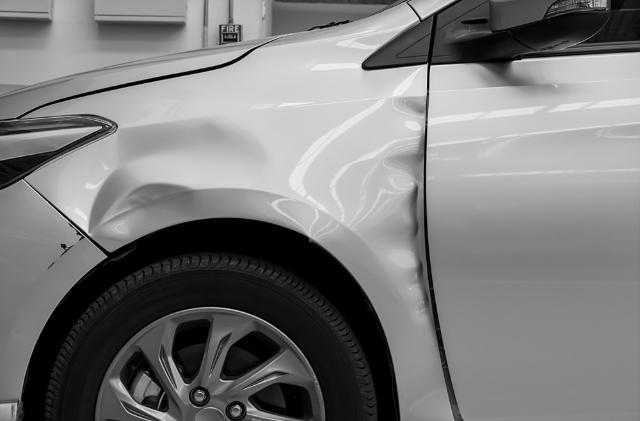dent: (89, 117, 263, 246), (386, 90, 433, 316)
scratch: (44, 218, 89, 273)
